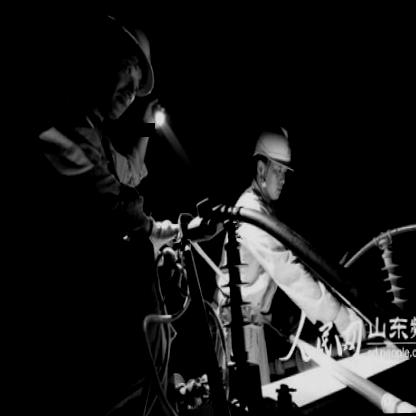helmet: (81, 5, 156, 123), (249, 115, 296, 208)
